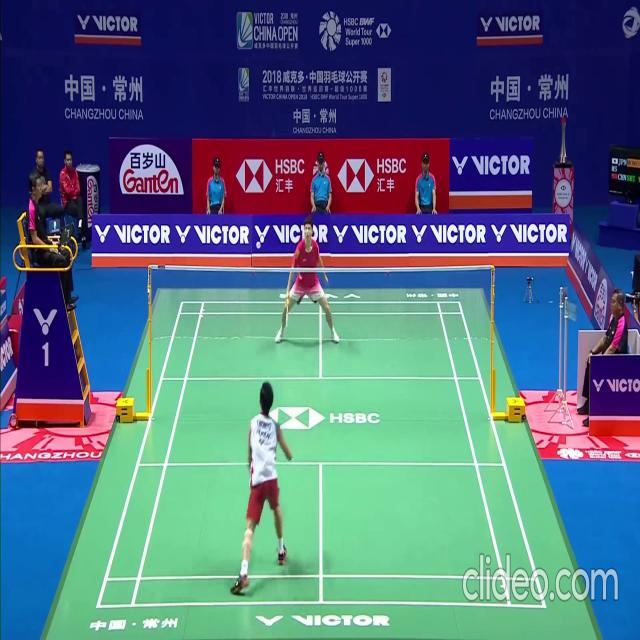Shuttlecock: (256, 241, 261, 248)
